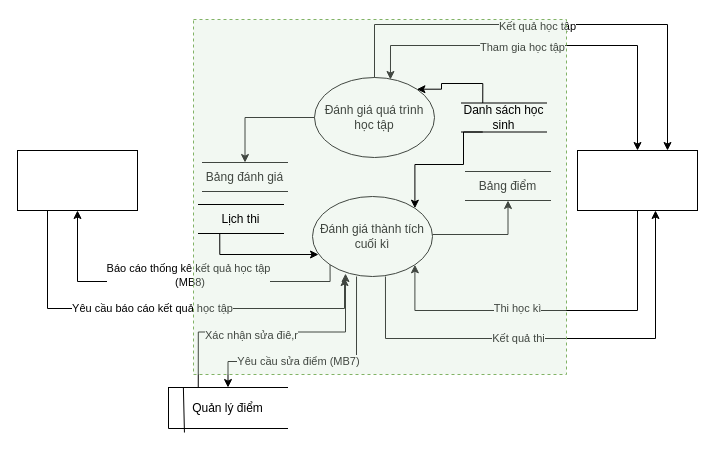
The diagram is 715 pixels wide and 452 high, and some of its shapes have lost their labels. The box of each missing label's shape, as (x1, y1, x2, y2) in pixels:
BAN GIÁM HIỆU: (16, 150, 138, 210)
HỌC SINH: (576, 150, 698, 210)
